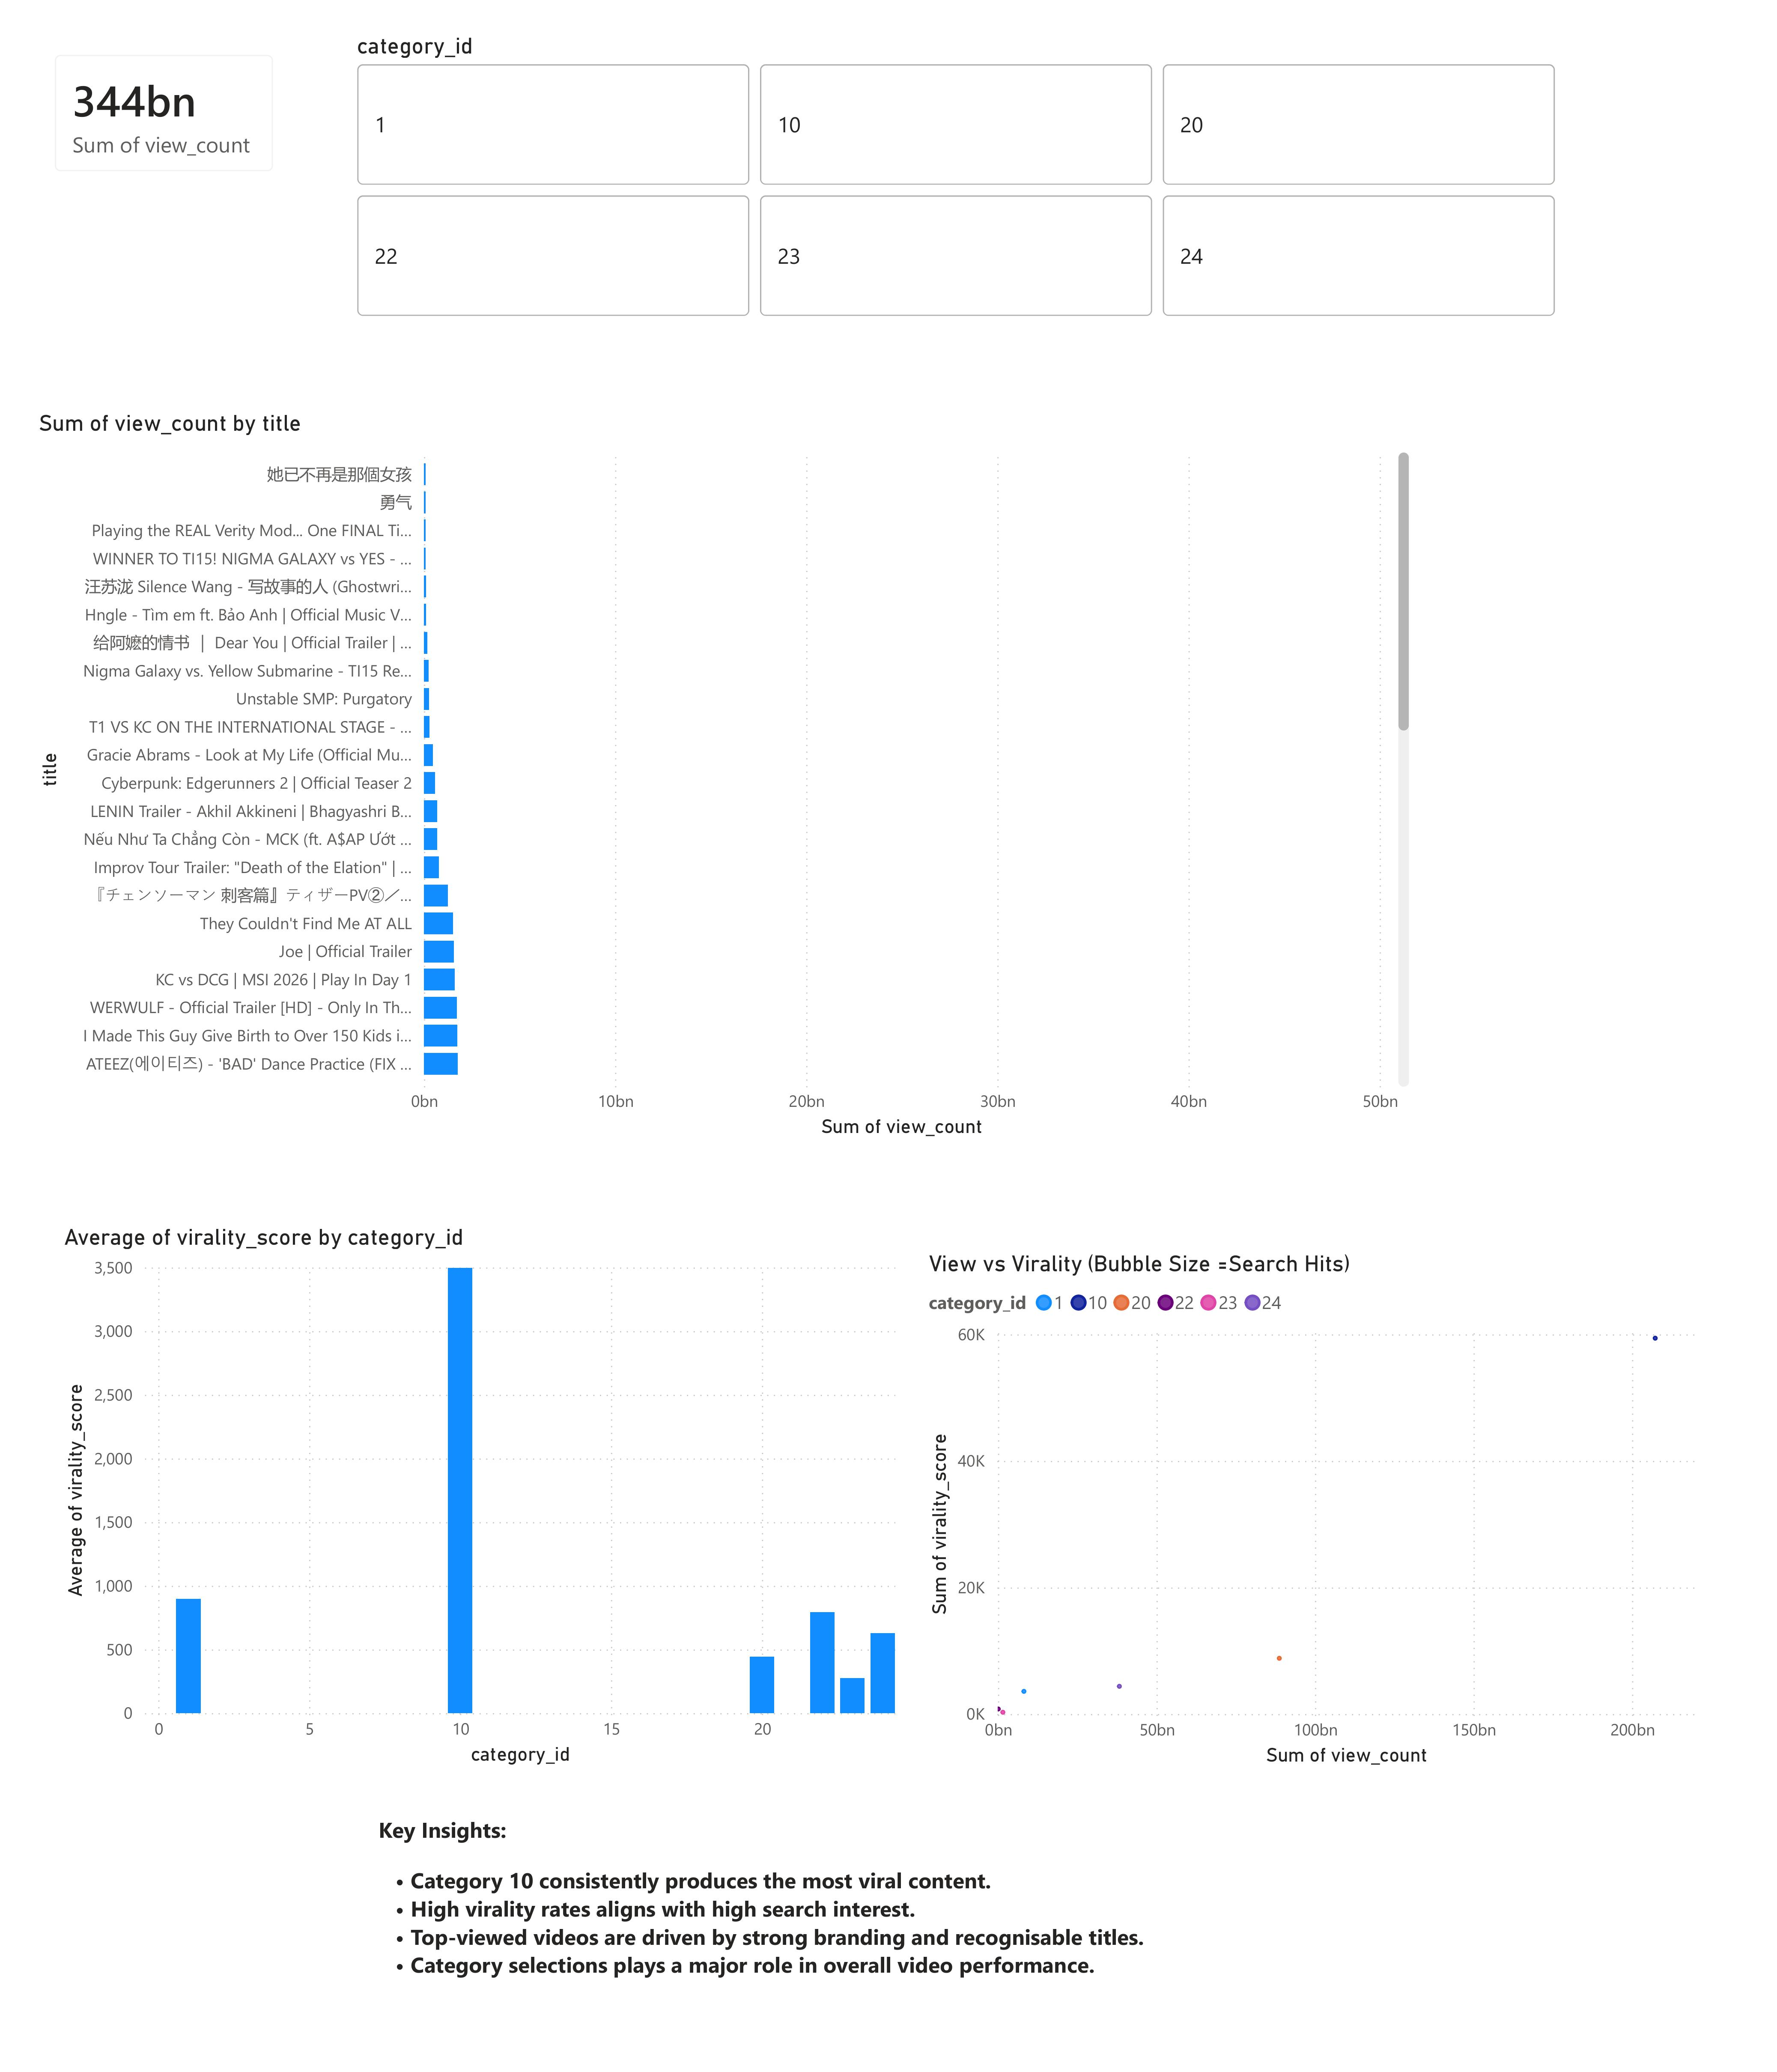

What the dashboard file says about the page in this screenshot:
{"tool":"powerbi","page":{"name":"Video Performance Overview","canvas":[1280,1500],"ordinal":0},"visuals":[{"type":"clusteredBarChart","fields":{"Category":["final_analytics.title"],"Y":["Sum(final_analytics.view_count)"]},"box":[0,282.4,1033.8,548.5],"z":0},{"type":"cardVisual","fields":{"Data":["Sum(final_analytics.view_count)"]},"box":[0,0,197.4,120.5],"z":1000},{"type":"scatterChart","title":"View vs Virality (Bubble Size =Search Hits) ","fields":{"X":["Sum(final_analytics.view_count)"],"Y":["Sum(final_analytics.virality_score)"],"Series":["final_analytics.category_id"],"Size":["Sum(final_analytics.search_hits)"]},"box":[665.4,909.6,600,390.4],"z":2000},{"type":"clusteredColumnChart","fields":{"Y":["Avg(final_analytics.virality_score)"],"Category":["final_analytics.category_id"]},"box":[19.2,890.4,630.8,409.6],"z":3000},{"type":"advancedSlicerVisual","fields":{"Values":["final_analytics.category_id"]},"box":[238.5,0,905.1,217.9],"z":4000},{"type":"textbox","box":[0,121,197,150],"z":5000},{"type":"textbox","box":[253.6,1326.8,590.7,164.9],"z":6000}]}

Visuals, with their boxes on the page's 1280x1500 design canvas (x1, y1, x2, y2). These are canvas units, not pixel positions in the 1777x2072 screenshot, which may show the page scaled, cropped or inside an application window:
clusteredBarChart - final_analytics.title x Sum(final_analytics.view_count): crop(0, 282, 1034, 831)
cardVisual - Sum(final_analytics.view_count): crop(0, 0, 197, 120)
"View vs Virality (Bubble Size =Search Hits) " scatterChart: crop(665, 910, 1265, 1300)
clusteredColumnChart - Avg(final_analytics.virality_score) x final_analytics.category_id: crop(19, 890, 650, 1300)
advancedSlicerVisual - final_analytics.category_id: crop(238, 0, 1144, 218)
textbox: crop(0, 121, 197, 271)
textbox: crop(254, 1327, 844, 1492)
